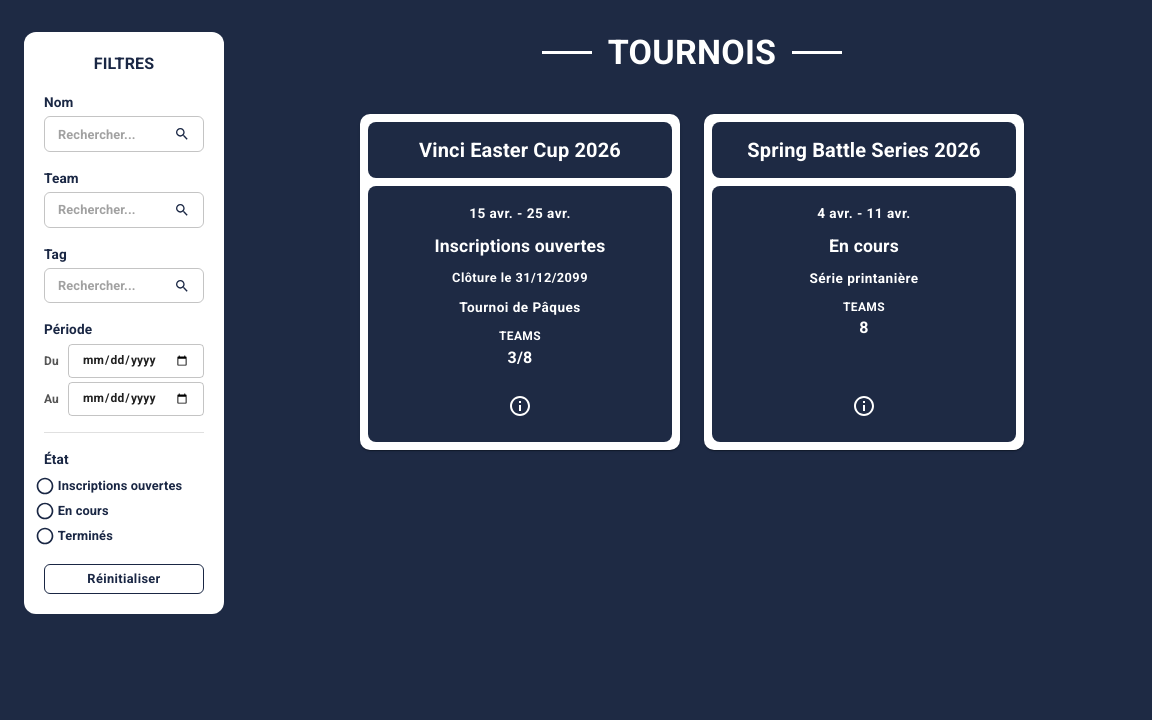
Test: TournamentsPage › filtre les tournois par nom
The width and height of the screenshot is (1152, 720).
Check: the heading "Vinci Easter Cup 2026" is shown, box [419,138,621,162]
Type "Spring" into the field with placeholder "Rechercher..." below "Nom" at {"x": 105, "y": 134}, box [44,116,166,152]
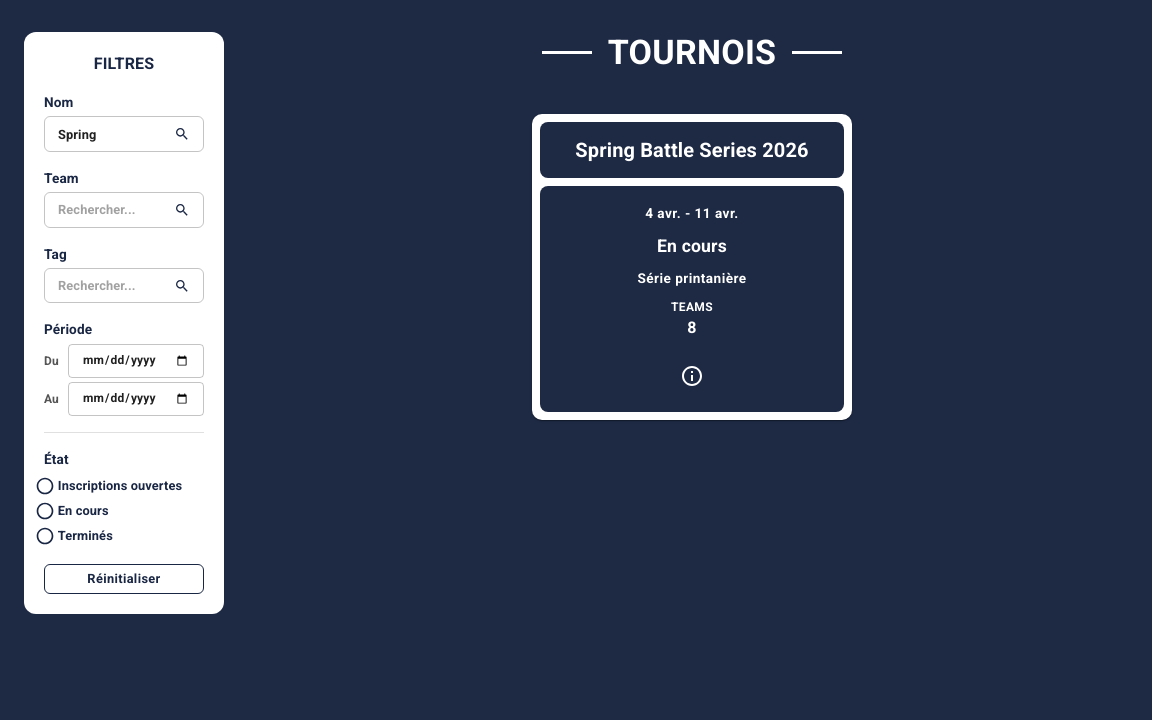
Check: the heading "Spring Battle Series 2026" is shown, box [575,138,809,162]
Check: the heading "Vinci Easter Cup 2026" is gone
